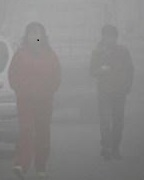person: (8, 21, 62, 176), (90, 23, 136, 160)
